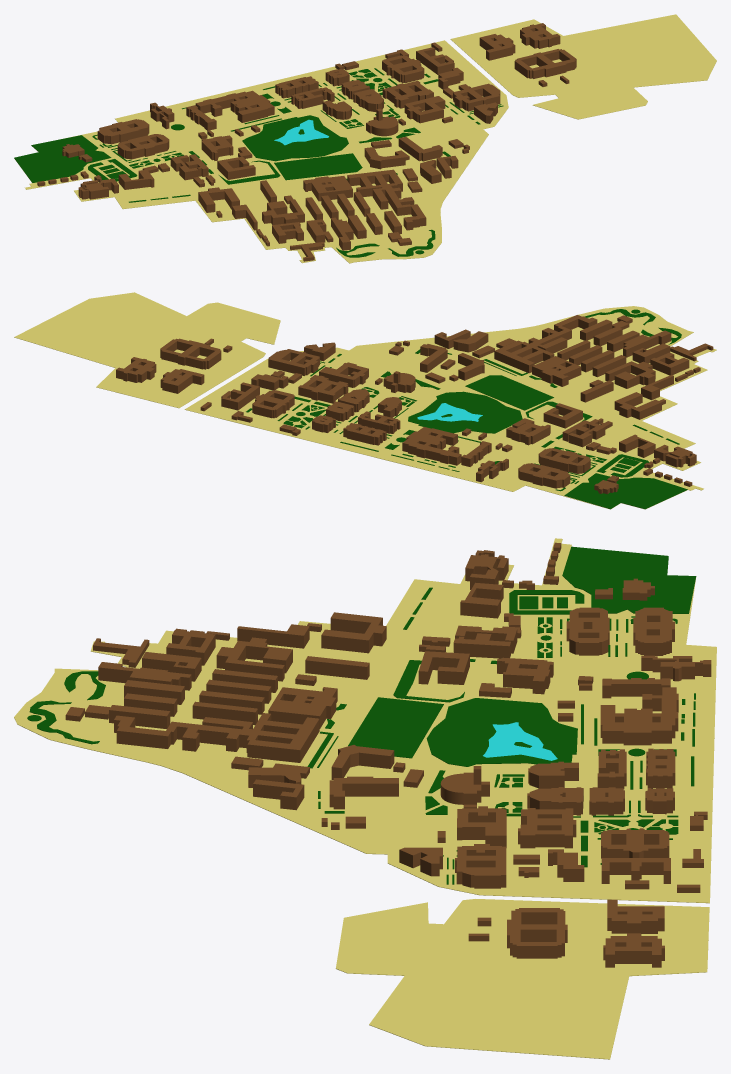
The model's file is hongo.glb.
3 renders of one model, top to bottom at view 1: azimuth 30°, elevation 25°; view 2: azimuth 150°, elevation 25°; view 3: azimuth 270°, elevation 25°, orthographic. The views are drawn at different scales.
Visible parts, largest first — view 1: ground, building, green, water; view 2: ground, building, green, water; view 3: ground, building, green, water.
Boxes of the visible parts, box(x1,y1,x2,y2) form: ground: box(15, 14, 716, 263); building: box(37, 23, 576, 261); green: box(14, 68, 503, 257); water: box(274, 119, 328, 145); ground: box(14, 292, 716, 509); building: box(116, 315, 713, 494); green: box(246, 309, 687, 509); water: box(417, 403, 482, 421); ground: box(14, 538, 716, 1059); building: box(65, 542, 711, 967); green: box(27, 546, 696, 884); water: box(483, 722, 557, 760).
Bounding box in the file's own units: 1302 × 32.5 × 743.
